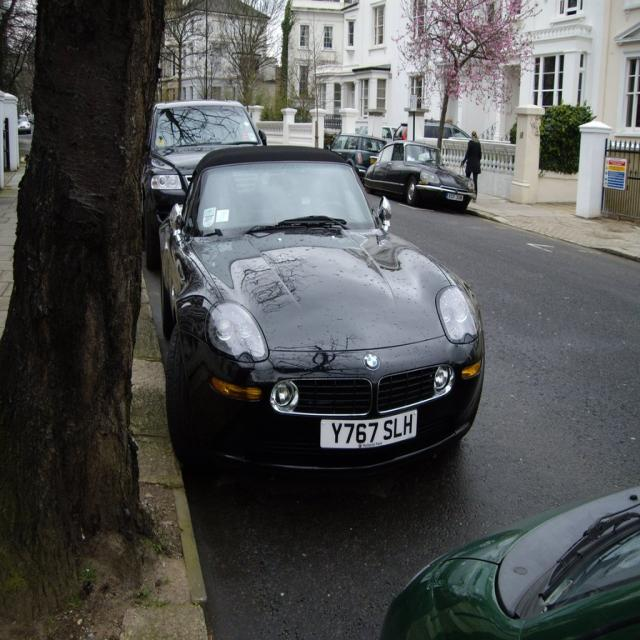car: (158, 144, 483, 479)
